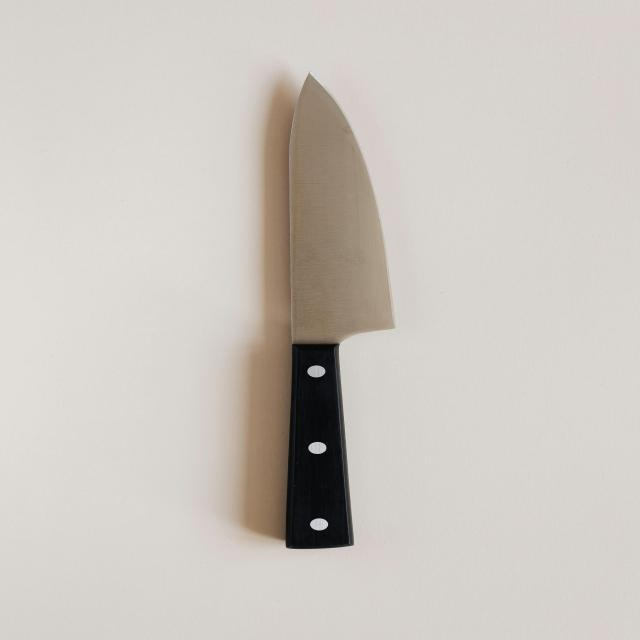Knife: (286, 75, 394, 549)
